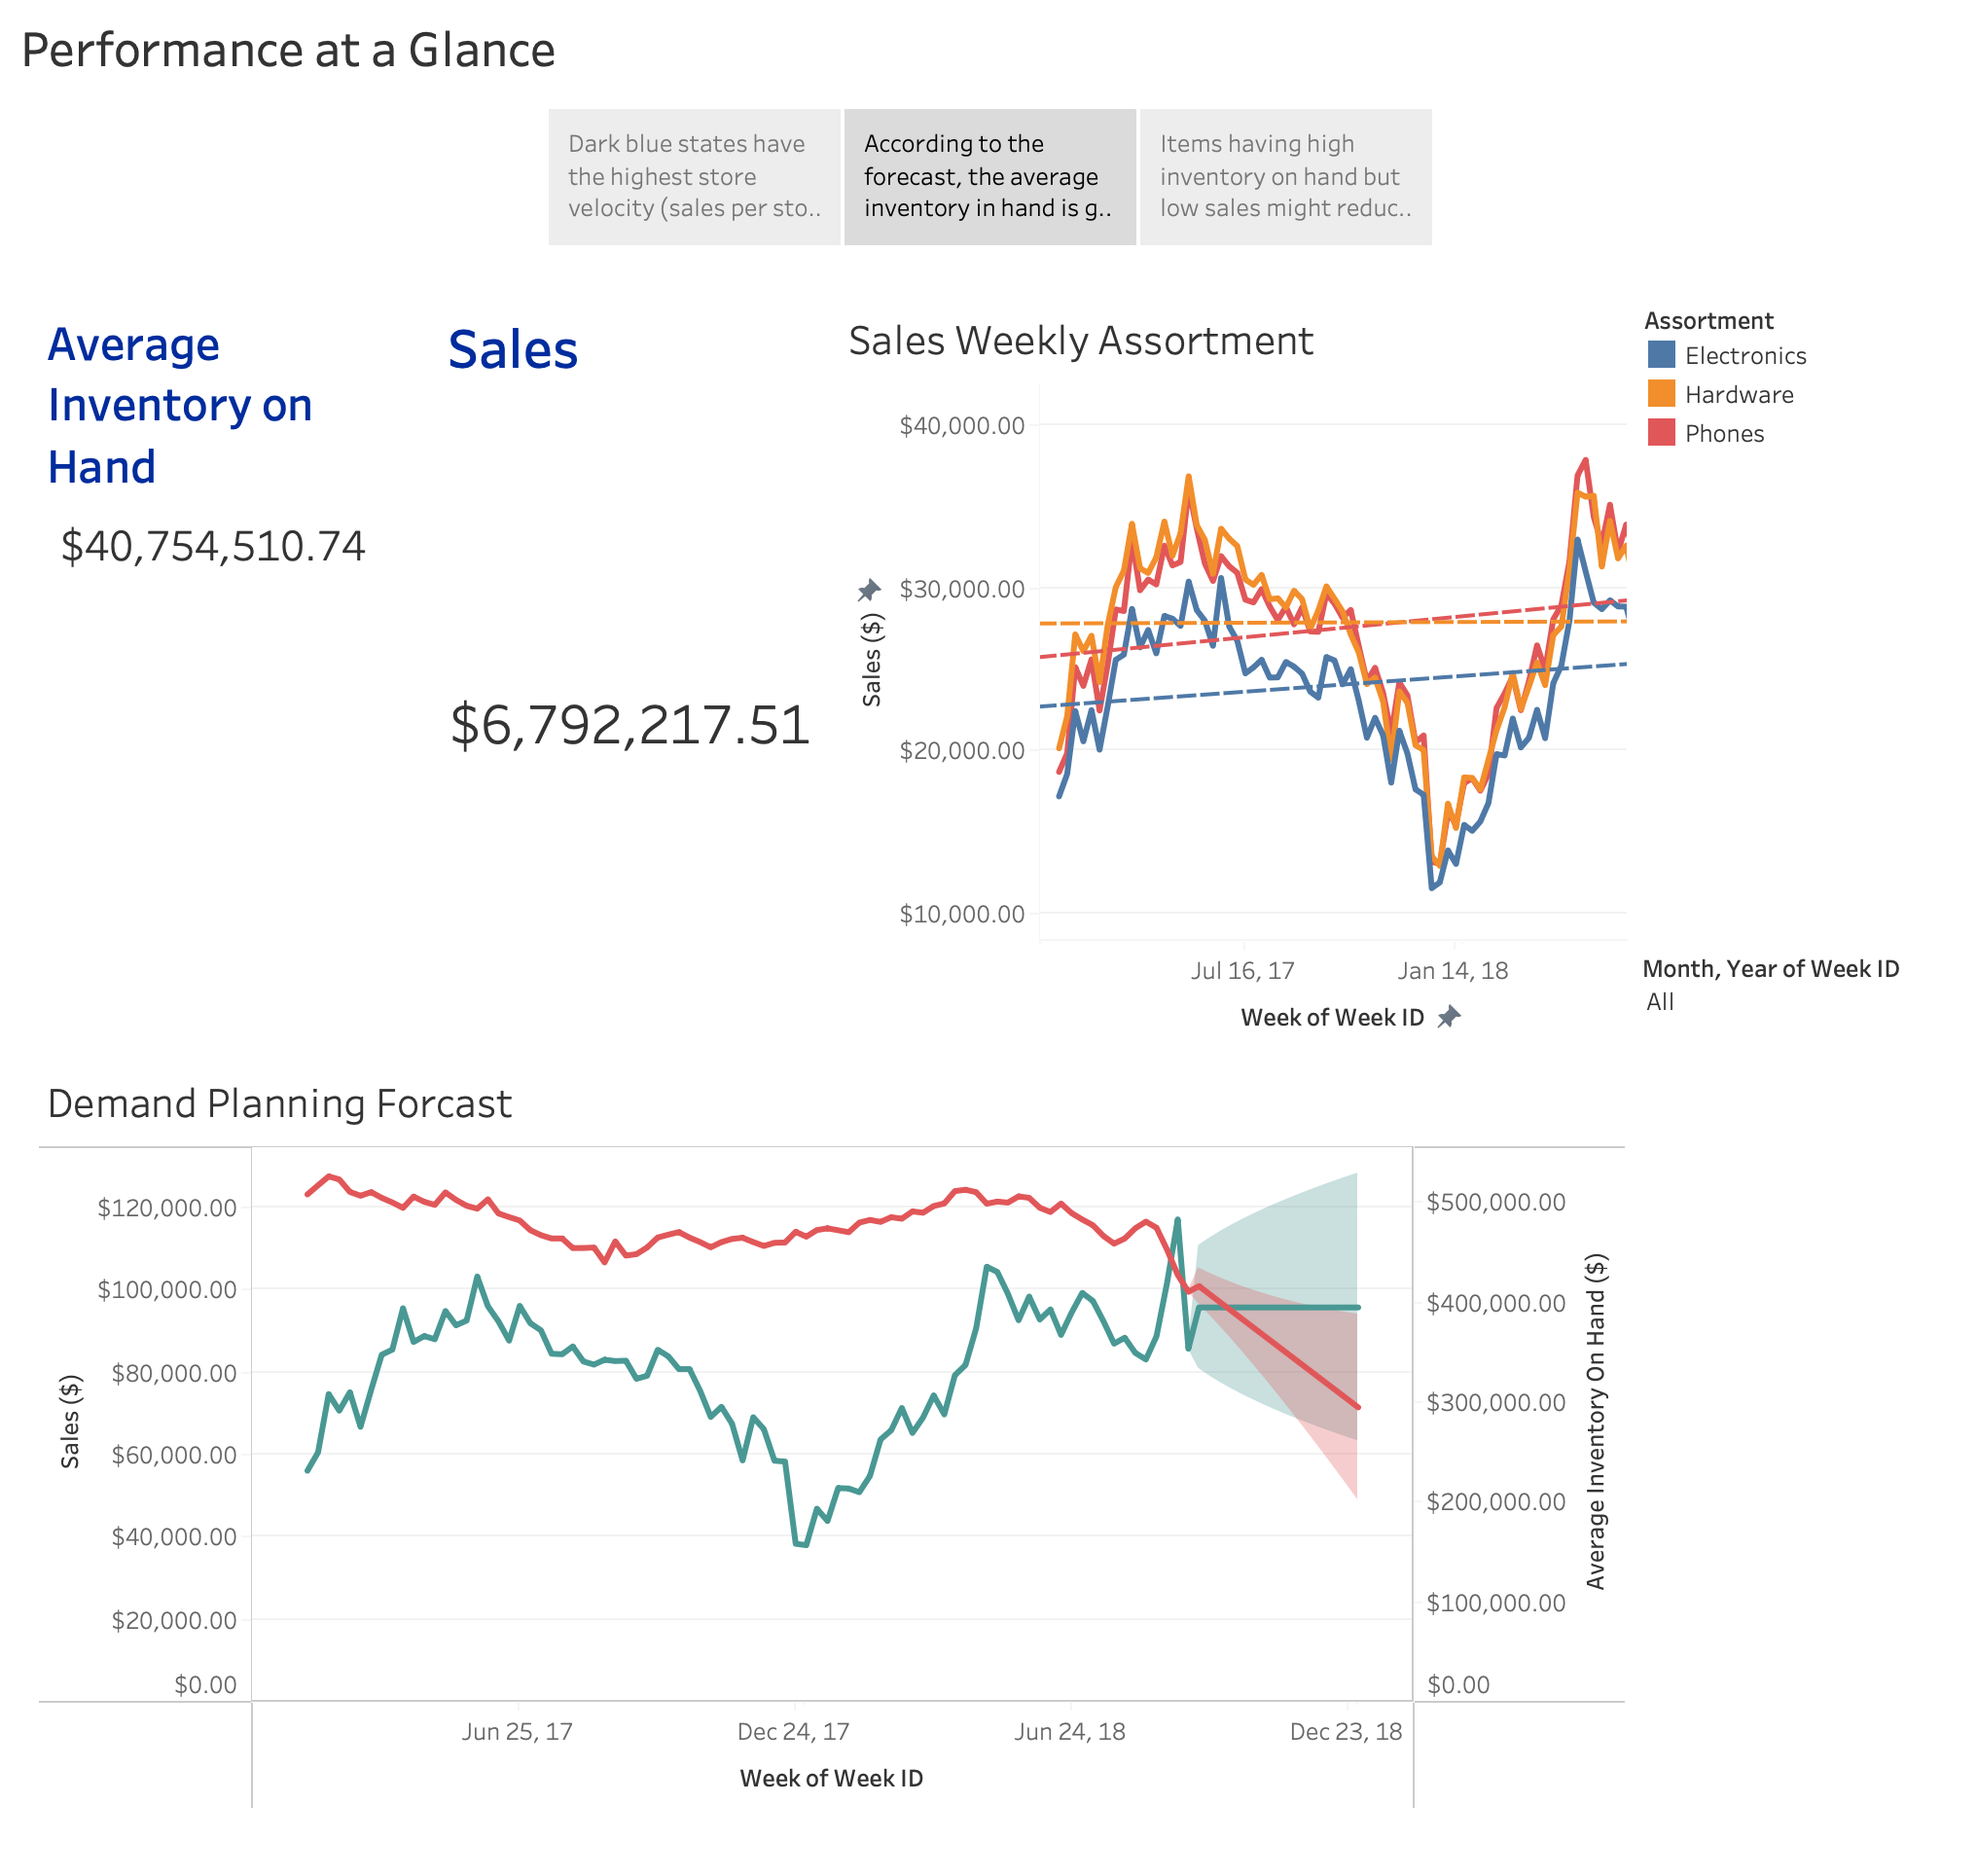

Layout of this report page (visuals, bound fields, positions):
{"tool":"tableau","page":{"name":"Weekly Dash + Forcast","canvas":[1000,800],"ordinal":2},"visuals":[{"type":"worksheet","title":"Average Inventory on Hand","mark":"Automatic","box":[8,8,206,392]},{"type":"worksheet","title":"Sales","mark":"Automatic","box":[214,8,206,392]},{"type":"worksheet","title":"Sales Weekly Assortment","mark":"Automatic","rows":["Sales ($)"],"cols":["Week ID"],"box":[420,8,412,392]},{"type":"legend","title":"Sales Weekly Assortment","param":"[federated.14cjw921thnt6q15we8bi1tz5f0t].[none:Assortment:nk]","box":[832,8,160,86]},{"type":"legend","title":"Demand Planning Forcast","param":"[federated.14cjw921thnt6q15we8bi1tz5f0t].[:Measure Names]\n[federated.14cjw921thn","box":[832,94,160,22]},{"type":"filter","title":"Sales Weekly Assortment","param":"[federated.14cjw921thnt6q15we8bi1tz5f0t].[my:Week ID:ok]","box":[836,346,168,75]},{"type":"worksheet","title":"Demand Planning Forcast","mark":"Automatic","rows":["Sales ($)","Average Inventory On Hand ($)"],"cols":["Week ID"],"box":[8,400,824,392]}]}

Visuals, with their boxes on the page's 1000x800 design canvas (x1, y1, x2, y2). These are canvas units, not pixel positions in the 1977x1876 screenshot, which may show the page scaled, cropped or inside an application window:
"Average Inventory on Hand" worksheet: bbox=[8, 8, 214, 400]
"Sales" worksheet: bbox=[214, 8, 420, 400]
"Sales Weekly Assortment" worksheet: bbox=[420, 8, 832, 400]
"Sales Weekly Assortment" legend: bbox=[832, 8, 992, 94]
"Demand Planning Forcast" legend: bbox=[832, 94, 992, 116]
"Sales Weekly Assortment" filter: bbox=[836, 346, 1004, 421]
"Demand Planning Forcast" worksheet: bbox=[8, 400, 832, 792]
